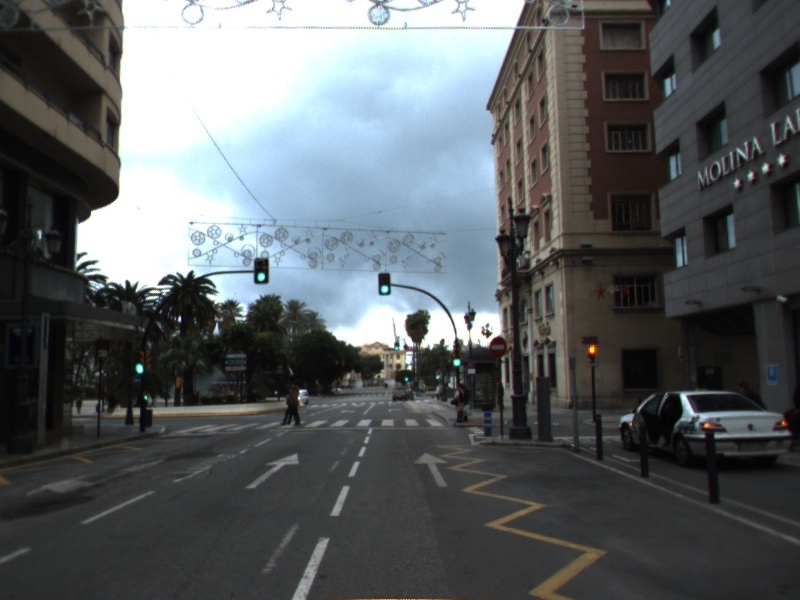STRAIGHT: (243, 451, 302, 491), (411, 449, 451, 490)
STRAIGHT_LEFT: (23, 458, 166, 498)
